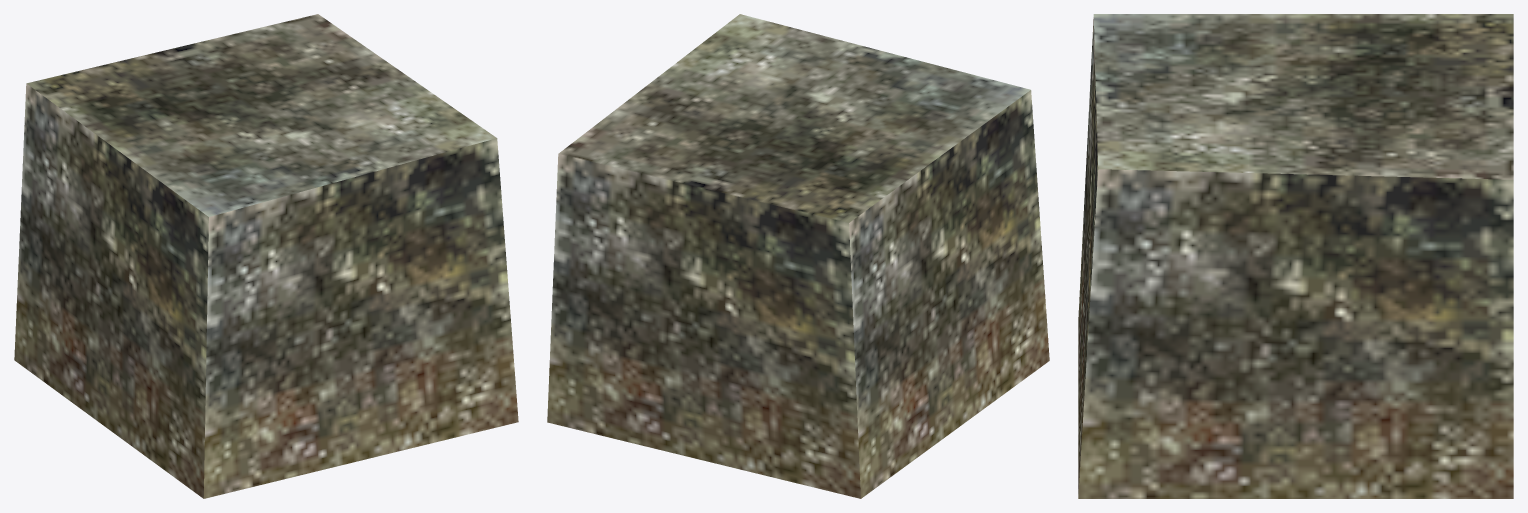
File: OZ_06_mi_relic05C.glb
3 views of the same model, side by side, from view 1: azimuth 30°, elevation 25°; view 2: azimuth 150°, elevation 25°; view 3: azimuth 270°, elevation 25° (orthographic). The views are drawn at different scales.
Parts seen in each view (by area): view 1: OM_06_mi_relic05C; view 2: OM_06_mi_relic05C; view 3: OM_06_mi_relic05C.
Part boxes in pixels (box(x1,y1,x2,y2)): OM_06_mi_relic05C: box(14, 14, 518, 498); OM_06_mi_relic05C: box(547, 14, 1049, 498); OM_06_mi_relic05C: box(1078, 14, 1513, 498).
Bounding box in the file's own units: 1.77 × 1.51 × 1.84.
Materials: 1 (1 with a texture image).
